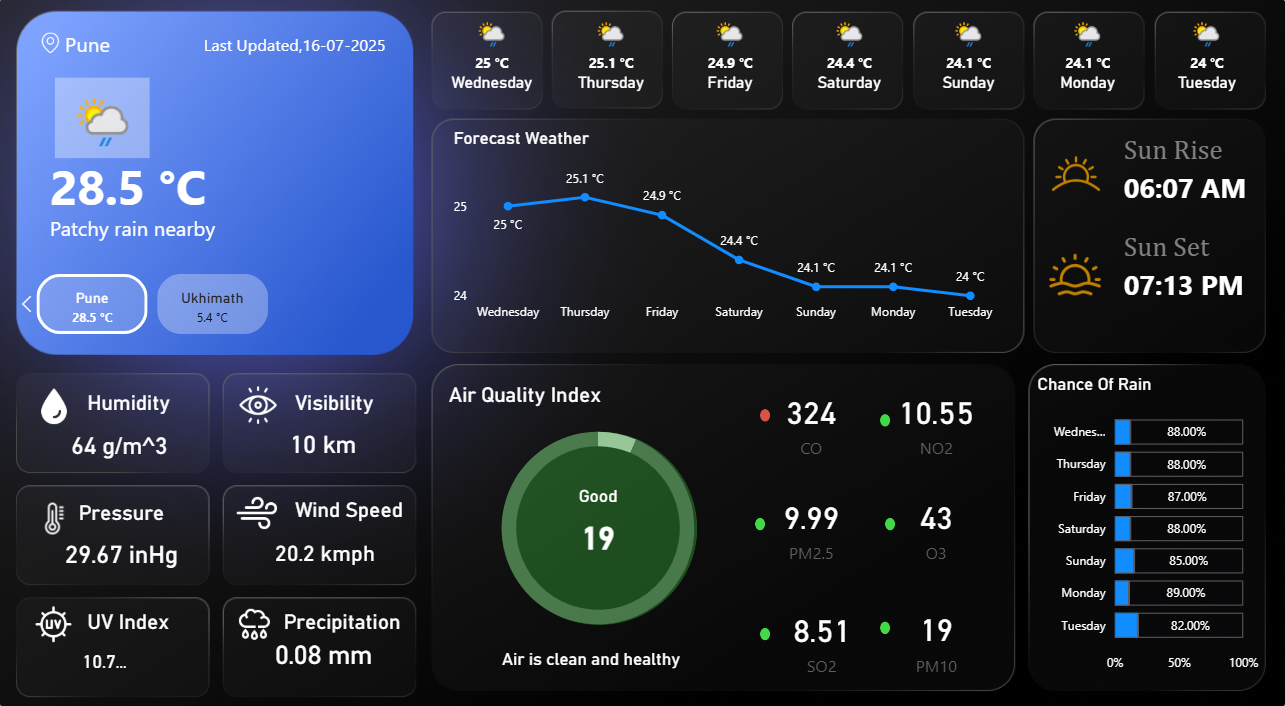

The dashboard page shown, as its layout file describes it:
{"tool":"powerbi","page":{"name":"Page 1","canvas":[1280,720],"ordinal":0},"visuals":[{"type":"advancedSlicerVisual","fields":{"Values":["Location.location.name"]},"box":[20.9,274.8,397.5,69.9],"z":0},{"type":"shape","box":[58.9,136.2,245.4,114.1],"z":1000},{"type":"shape","box":[58.9,218.4,349.7,31.9],"z":2000},{"type":"shape","box":[73.6,38,99.4,31.9],"z":3000},{"type":"shape","box":[209.8,38,189,31.9],"z":4000},{"type":"image","box":[22.1,38,73.6,29.4],"z":5000},{"type":"cardVisual","fields":{"Data":["Min(current.current.condition.icon)"]},"box":[58.9,82.2,103.1,89.6],"z":6000},{"type":"advancedSlicerVisual","fields":{"Values":["forcast_day.day_name"]},"box":[429.5,22.1,831.9,96.9],"z":7000},{"type":"lineChart","title":"Forecast Weather","fields":{"Category":["forcast_day.day_name"],"Y":["Sum(forcast_day.forecast.forecastday.day.avgtemp_c)"]},"box":[450.3,136.2,547.4,199.3],"z":8000},{"type":"shape","box":[1112.5,162.7,137.5,63.1],"z":9000},{"type":"shape","box":[1112.5,257.3,137.5,63.1],"z":10000},{"type":"shape","title":"Sun Rise","box":[1112.5,143.8,157.7,36.6],"z":11000},{"type":"shape","title":"Sun Set","box":[1112.5,239.7,167.8,35.3],"z":12000},{"type":"image","box":[1017.9,145.1,94.6,73.2],"z":13000},{"type":"image","box":[1014.1,249.7,103.4,60.5],"z":14000},{"type":"hundredPercentStackedBarChart","title":"Chance Of Rain","fields":{"Y":["current.left_value_rain","Sum(forcast_day.forecast.forecastday.day.daily_chance_of_rain)"],"Category":["forcast_day.day_name"]},"box":[1022.9,378.4,227,301.5],"z":15000},{"type":"shape","title":"Humidity ","box":[95.7,393.9,109.2,30.7],"z":16000},{"type":"cardVisual","fields":{"Data":["_measures.humidity"]},"box":[62.5,410,142.5,65],"z":17000},{"type":"shape","title":"Pressure","box":[87.5,501.2,108.8,30],"z":18000},{"type":"shape","title":"Wind Speed","box":[299.4,499.4,109.2,30.7],"z":19000},{"type":"shape","title":"Visibility ","box":[299.4,393.9,109.2,30.7],"z":20000},{"type":"shape","title":"UV Index","box":[95.7,608.6,109.2,30.7],"z":21000},{"type":"shape","title":"Precipitation ","box":[288.8,608.8,120,30],"z":22000},{"type":"image","box":[15,600,95,47.5],"z":23000},{"type":"image","box":[233.8,488.8,55,52.5],"z":24000},{"type":"image","box":[37.5,386.2,50,46.2],"z":25000},{"type":"image","box":[233.8,385,57.5,46.2],"z":26000},{"type":"image","box":[216.2,600,87.5,47.5],"z":27000},{"type":"image","box":[35,500,55,41.2],"z":28000},{"type":"cardVisual","fields":{"Data":["_measures.visibility"]},"box":[277.5,408.8,121.2,65],"z":29000},{"type":"cardVisual","fields":{"Data":["_measures.wind_kph"]},"box":[262.5,516.2,146.2,65],"z":30000},{"type":"cardVisual","fields":{"Data":["_measures.preci"]},"box":[262.5,615,132.5,65],"z":31000},{"type":"cardVisual","fields":{"Data":["_measures.uv_"]},"box":[73.8,623.8,131.2,65],"z":32000},{"type":"cardVisual","fields":{"Data":["_measures.pressure"]},"box":[56.2,516.2,148.8,65],"z":33000},{"type":"shape","title":"Air Quality Index","box":[450,386.2,222.5,31.2],"z":34000},{"type":"card","fields":{"Values":["Sum(current.current.air_quality.no2)"]},"box":[878.8,385,101.2,80],"z":35000},{"type":"card","fields":{"Values":["Sum(current.current.air_quality.o3)"]},"box":[878.8,488.8,101.2,80],"z":36000},{"type":"card","fields":{"Values":["Sum(current.current.air_quality.co)"]},"box":[756.2,385,101.2,80],"z":37000},{"type":"card","fields":{"Values":["Sum(current.current.air_quality.pm2_5)"]},"box":[756.2,488.8,101.2,80],"z":38000},{"type":"card","fields":{"Values":["Sum(current.current.air_quality.so2)"]},"box":[775,598.8,82.5,81.2],"z":39000},{"type":"card","fields":{"Values":["Sum(current.current.air_quality.pm10)"]},"box":[878.8,598.8,101.2,80],"z":40000},{"type":"shape","box":[756.2,412.5,10,12.5],"z":41000},{"type":"shape","box":[751.2,518.8,10,12.5],"z":42000},{"type":"shape","box":[756.2,627.5,10,12.5],"z":43000},{"type":"shape","box":[873.8,621.2,10,12.5],"z":44000},{"type":"shape","box":[873.8,417.5,10,12.5],"z":45000},{"type":"shape","box":[878.8,518.8,10,12.5],"z":46000},{"type":"donutChart","fields":{"Y":["Sum(current.current.air_quality.pm10)","_measures.left_values"]},"box":[425,406.2,345,246.2],"z":46250},{"type":"shape","box":[501.2,433.8,192.5,190],"z":46500},{"type":"card","fields":{"Values":["Sum(current.current.air_quality.pm10)"]},"box":[527.5,487.5,138.8,81.2],"z":49000},{"type":"shape","box":[430,647.5,321.2,31.2],"z":49501}]}

Visuals, with their boxes in screenshot pixels (x1, y1, x2, y2), scaled from the page's 1280x720 canvas onto the 1285x706 screenshot:
advancedSlicerVisual - Location.location.name: (x1=21, y1=269, x2=420, y2=338)
shape: (x1=59, y1=134, x2=305, y2=245)
shape: (x1=59, y1=214, x2=410, y2=245)
shape: (x1=74, y1=37, x2=174, y2=69)
shape: (x1=211, y1=37, x2=400, y2=69)
image: (x1=22, y1=37, x2=96, y2=66)
cardVisual - Min(current.current.condition.icon): (x1=59, y1=81, x2=163, y2=168)
advancedSlicerVisual - forcast_day.day_name: (x1=431, y1=22, x2=1266, y2=117)
"Forecast Weather" lineChart: (x1=452, y1=134, x2=1002, y2=329)
shape: (x1=1117, y1=160, x2=1255, y2=221)
shape: (x1=1117, y1=252, x2=1255, y2=314)
"Sun Rise" shape: (x1=1117, y1=141, x2=1275, y2=177)
"Sun Set" shape: (x1=1117, y1=235, x2=1284, y2=270)
image: (x1=1022, y1=142, x2=1117, y2=214)
image: (x1=1018, y1=245, x2=1122, y2=304)
"Chance Of Rain" hundredPercentStackedBarChart: (x1=1027, y1=371, x2=1255, y2=667)
"Humidity " shape: (x1=96, y1=386, x2=206, y2=416)
cardVisual - _measures.humidity: (x1=63, y1=402, x2=206, y2=466)
"Pressure" shape: (x1=88, y1=491, x2=197, y2=521)
"Wind Speed" shape: (x1=301, y1=490, x2=410, y2=520)
"Visibility " shape: (x1=301, y1=386, x2=410, y2=416)
"UV Index" shape: (x1=96, y1=597, x2=206, y2=627)
"Precipitation " shape: (x1=290, y1=597, x2=410, y2=626)
image: (x1=15, y1=588, x2=110, y2=635)
image: (x1=235, y1=479, x2=290, y2=531)
image: (x1=38, y1=379, x2=88, y2=424)
image: (x1=235, y1=378, x2=292, y2=423)
image: (x1=217, y1=588, x2=305, y2=635)
image: (x1=35, y1=490, x2=90, y2=531)
cardVisual - _measures.visibility: (x1=279, y1=401, x2=400, y2=465)
cardVisual - _measures.wind_kph: (x1=264, y1=506, x2=410, y2=570)
cardVisual - _measures.preci: (x1=264, y1=603, x2=397, y2=667)
cardVisual - _measures.uv_: (x1=74, y1=612, x2=206, y2=675)
cardVisual - _measures.pressure: (x1=56, y1=506, x2=206, y2=570)
"Air Quality Index" shape: (x1=452, y1=379, x2=675, y2=409)
card - Sum(current.current.air_quality.no2): (x1=882, y1=378, x2=984, y2=456)
card - Sum(current.current.air_quality.o3): (x1=882, y1=479, x2=984, y2=558)
card - Sum(current.current.air_quality.co): (x1=759, y1=378, x2=861, y2=456)
card - Sum(current.current.air_quality.pm2_5): (x1=759, y1=479, x2=861, y2=558)
card - Sum(current.current.air_quality.so2): (x1=778, y1=587, x2=861, y2=667)
card - Sum(current.current.air_quality.pm10): (x1=882, y1=587, x2=984, y2=666)
shape: (x1=759, y1=404, x2=769, y2=417)
shape: (x1=754, y1=509, x2=764, y2=521)
shape: (x1=759, y1=615, x2=769, y2=628)
shape: (x1=877, y1=609, x2=887, y2=621)
shape: (x1=877, y1=409, x2=887, y2=422)
shape: (x1=882, y1=509, x2=892, y2=521)
donutChart - Sum(current.current.air_quality.pm10) x _measures.left_values: (x1=427, y1=398, x2=773, y2=640)
shape: (x1=503, y1=425, x2=696, y2=612)
card - Sum(current.current.air_quality.pm10): (x1=530, y1=478, x2=669, y2=558)
shape: (x1=432, y1=635, x2=754, y2=666)
